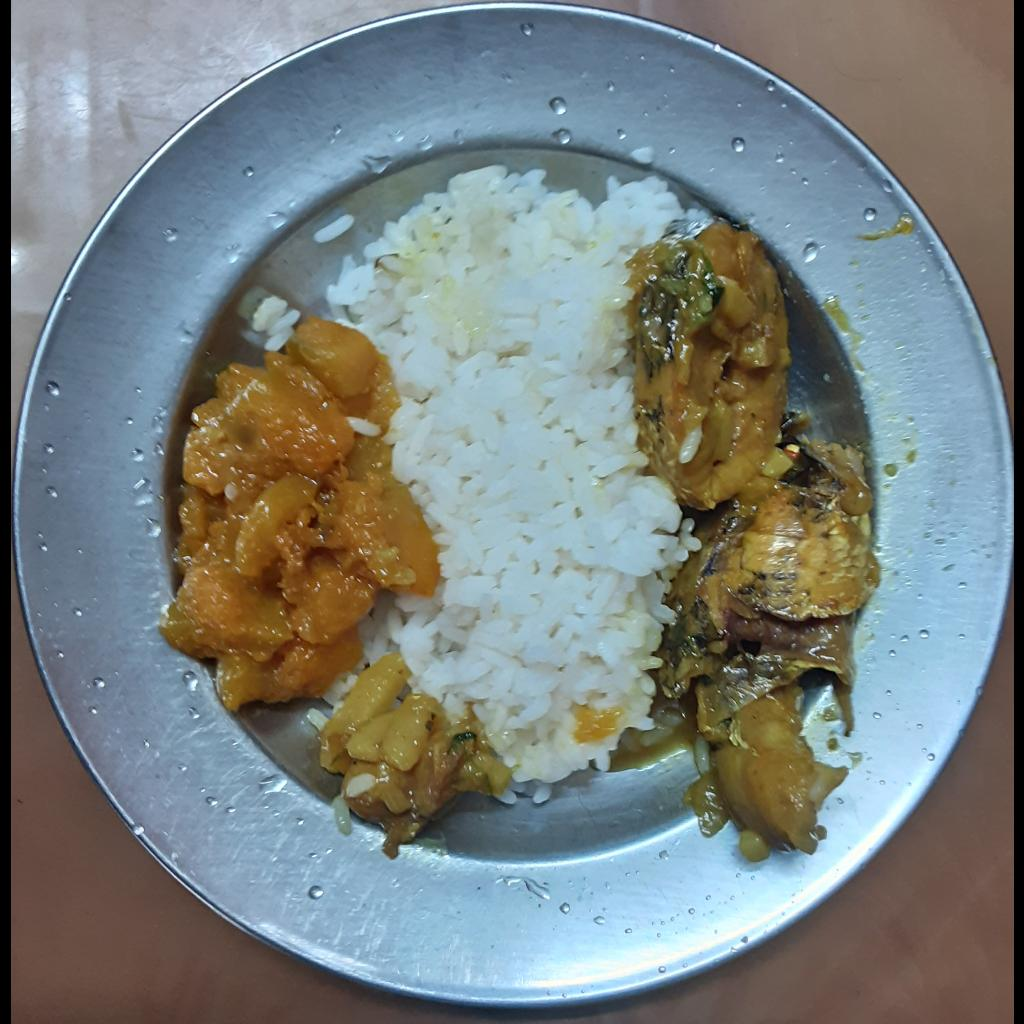fish: (626, 197, 866, 855)
kumra-vaji: (158, 317, 434, 720)
potato: (320, 640, 501, 861)
rice: (251, 169, 695, 807)
